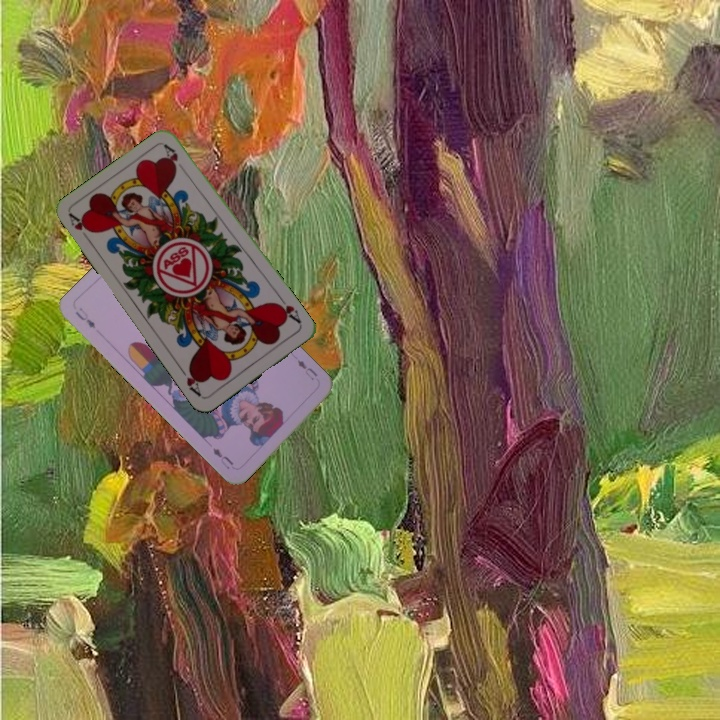EU: (71, 303, 98, 331), (293, 356, 320, 383)
HA: (271, 293, 304, 328), (65, 210, 95, 246)
